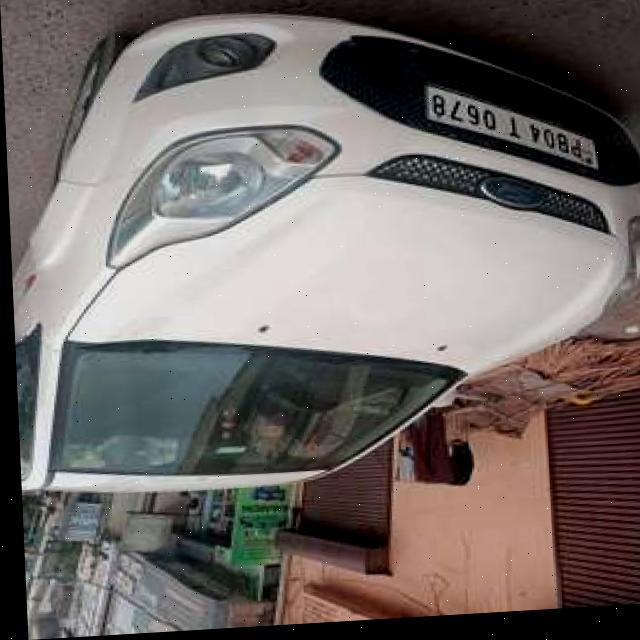plate: (419, 80, 600, 189)
